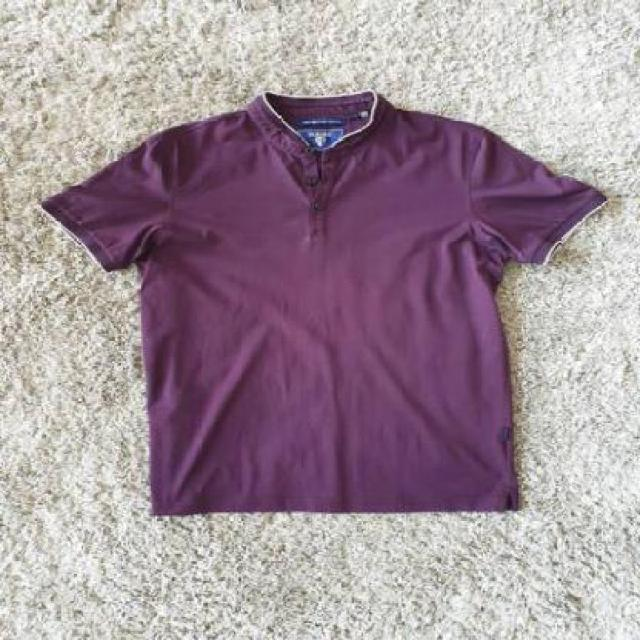shirt: (44, 95, 608, 516)
